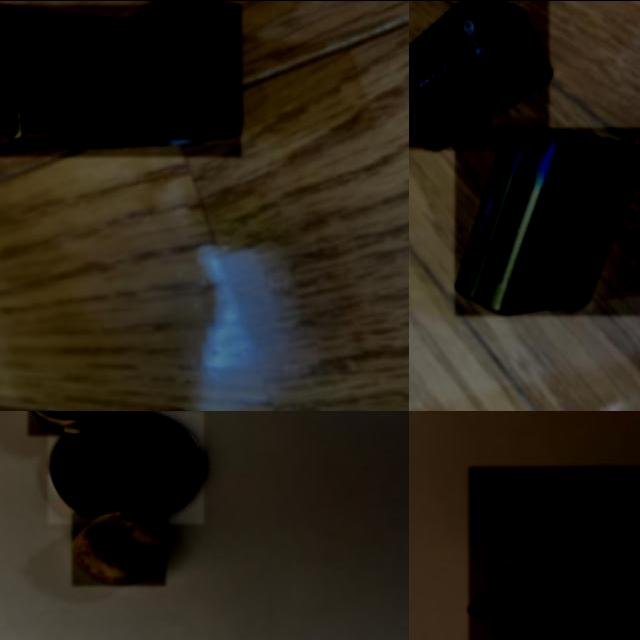9V: (0, 4, 241, 157), (455, 127, 640, 315), (469, 466, 640, 640), (409, 0, 549, 149), (491, 509, 640, 635)
